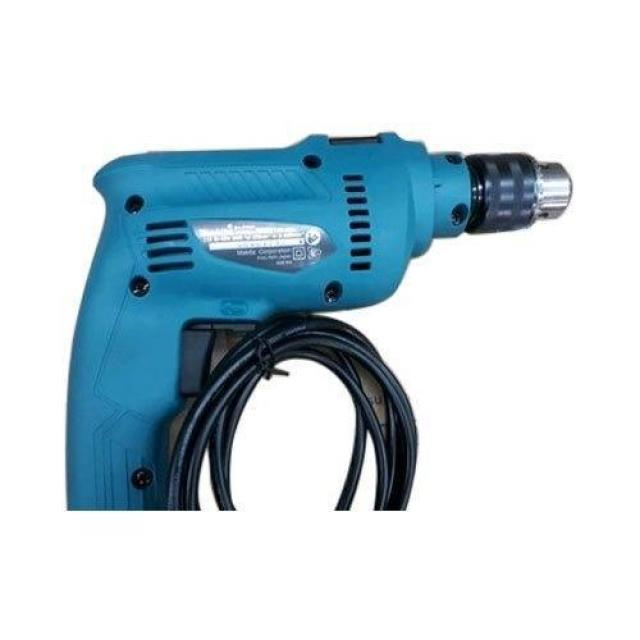drill: (66, 132, 573, 511)
